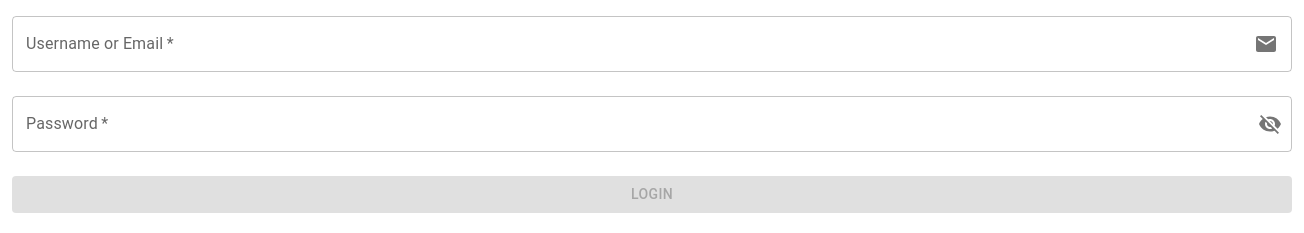
Test case: Login integration – user flow › submit button is disabled until form is valid
The width and height of the screenshot is (1304, 233).
Expected: the button "Login" is disabled, [12,176,1292,212]
// Fill form with valid data
Type "testuser" into the field labelled "Username or Email *" at (629, 44), box [12,16,1246,72]
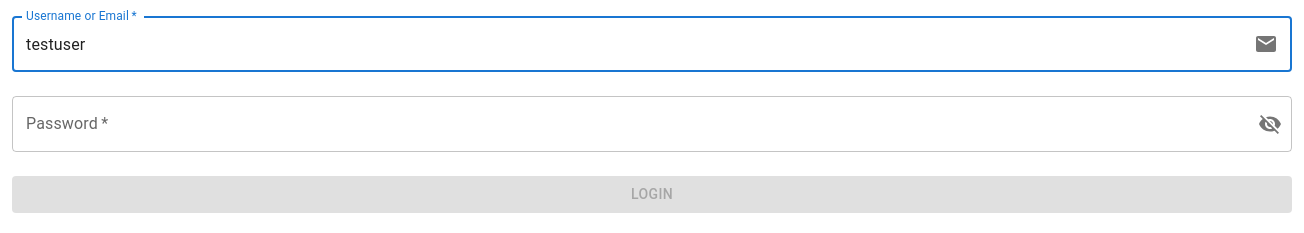
Type "password123" into the password field labelled "Password *" at (627, 124), box [12,96,1242,152]
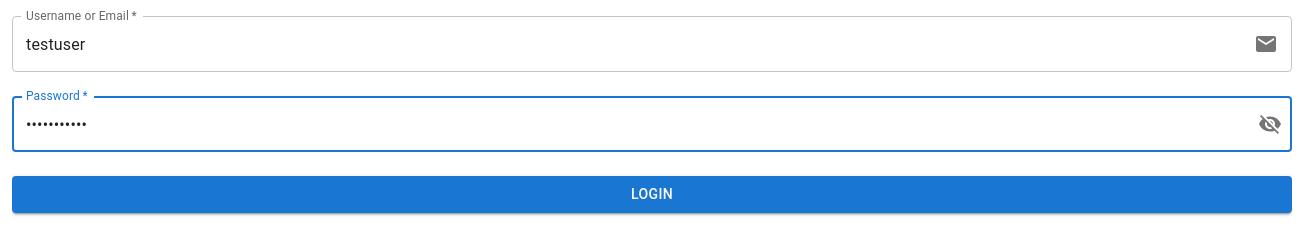
Result: the button "Login" is enabled at [12,176,1292,212]
